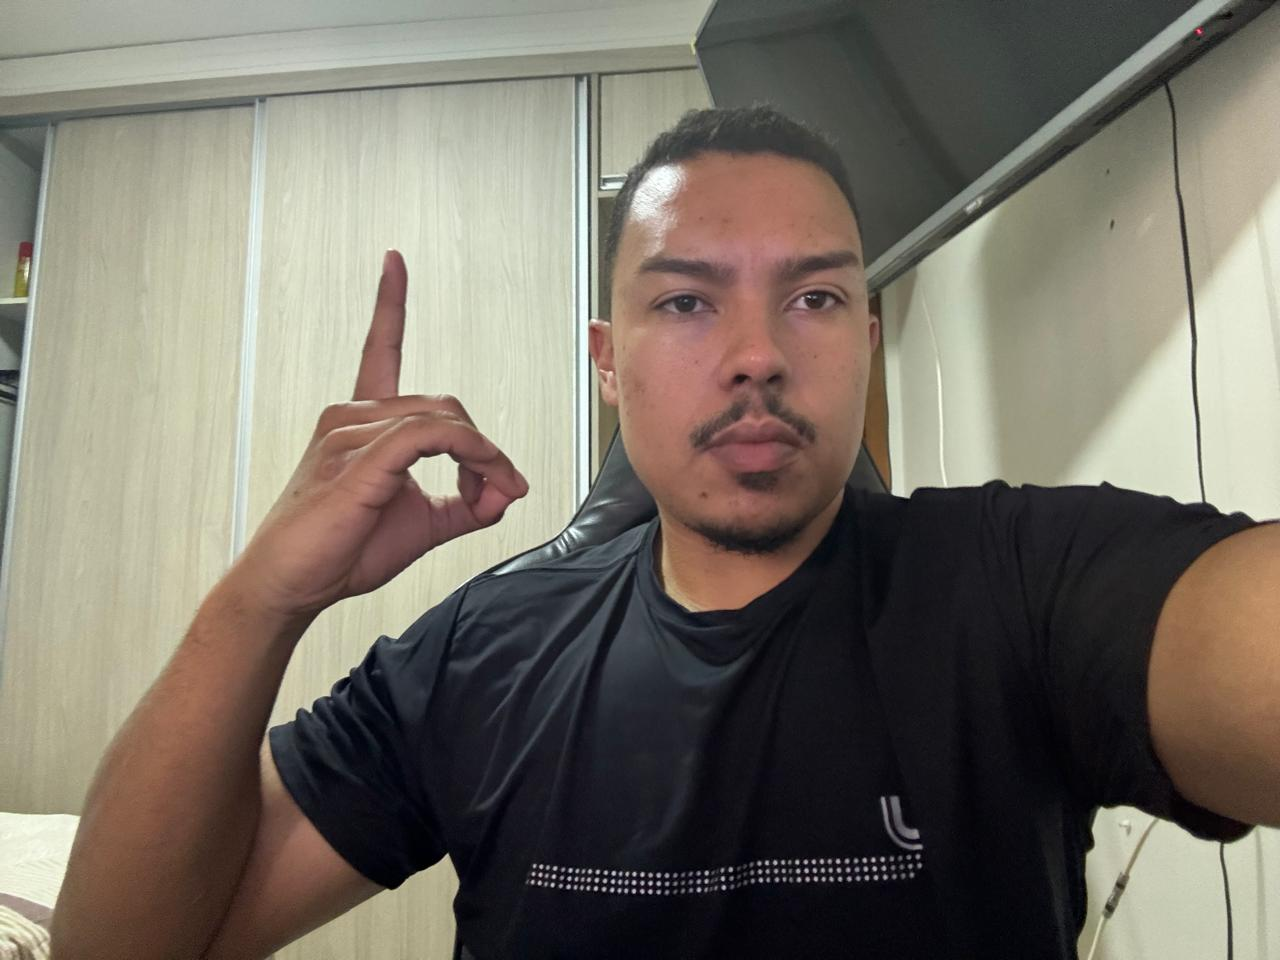d: (227, 243, 535, 618)
